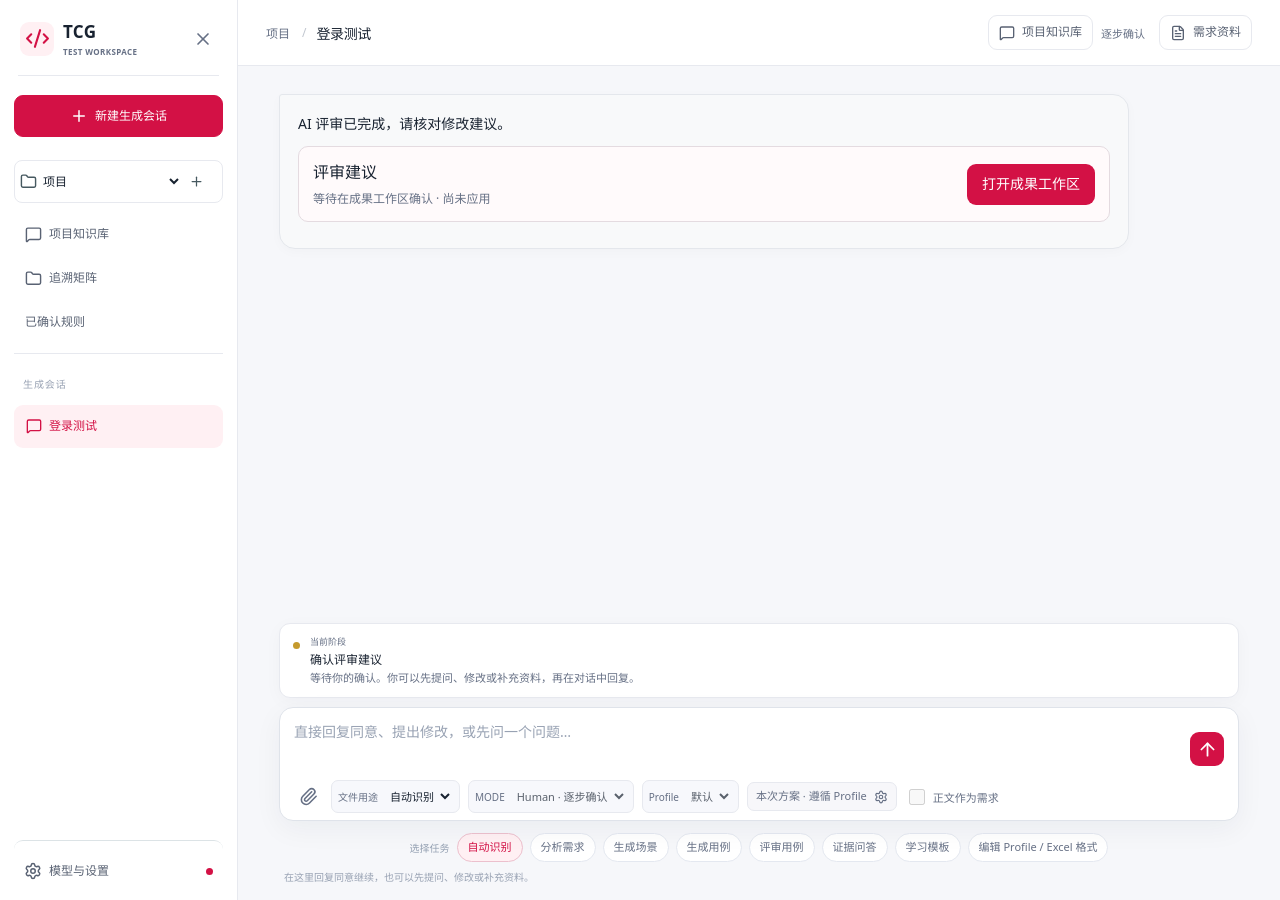
Scenario: side assistant uses the existing chat and selected cases without starting a workflow or consuming the main draft
Type "下一轮要补充的需求" into the text box named "聊天输入".
click(737, 744); type("下一轮要补充的需求")  # box x1=294 y1=720 x2=1180 y2=768
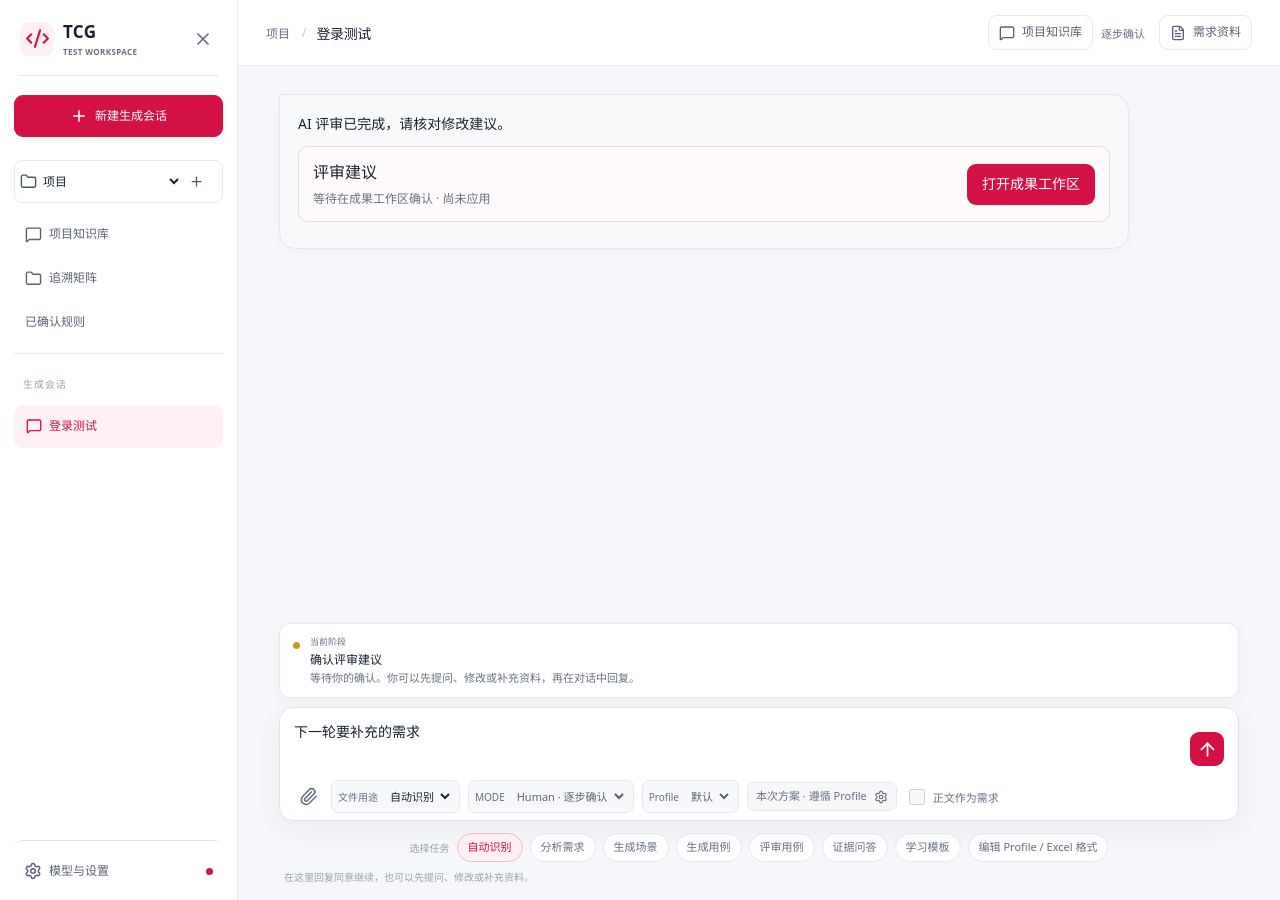
Click the button "打开成果工作区".
click(1031, 184)  # box x1=967 y1=164 x2=1095 y2=205
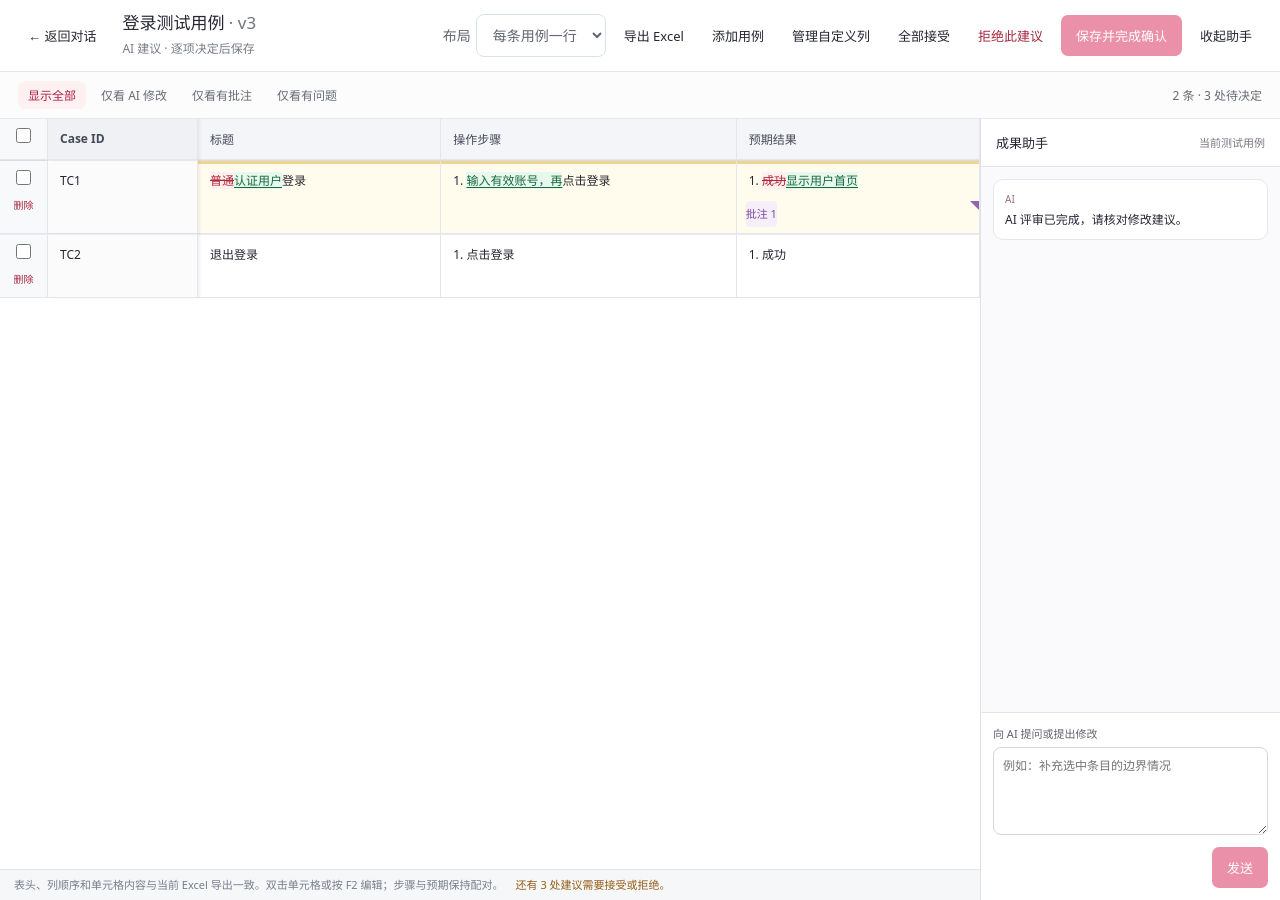
Result: the table is shown at x1=0 y1=119 x2=980 y2=298
Click the checkbox named "选择 TC1".
click(24, 177)  # box x1=16 y1=170 x2=31 y2=185
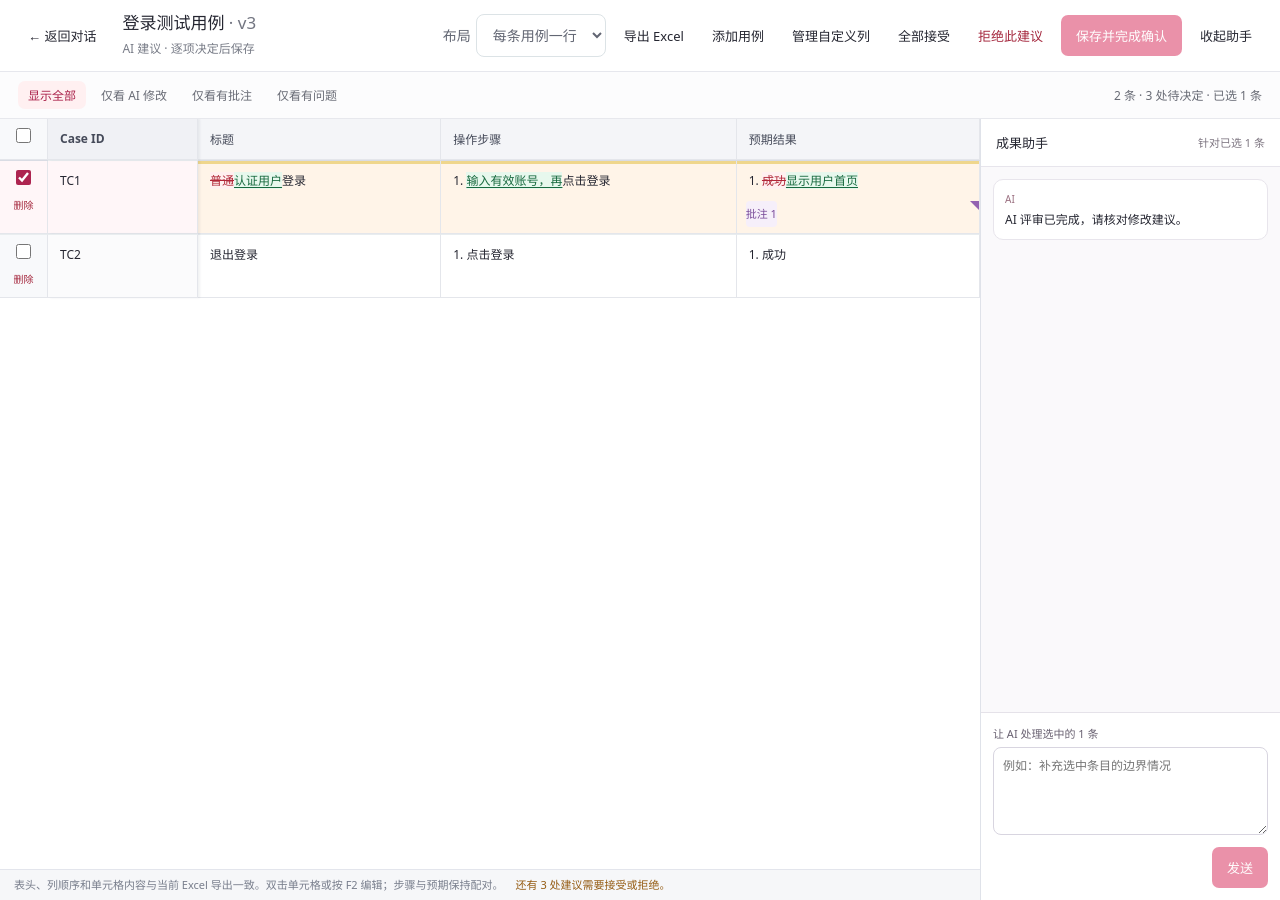
Type "解释所选用例，不要应用评审建议" into the text box.
click(1130, 791); type("解释所选用例，不要应用评审建议")  # box x1=993 y1=747 x2=1268 y2=835
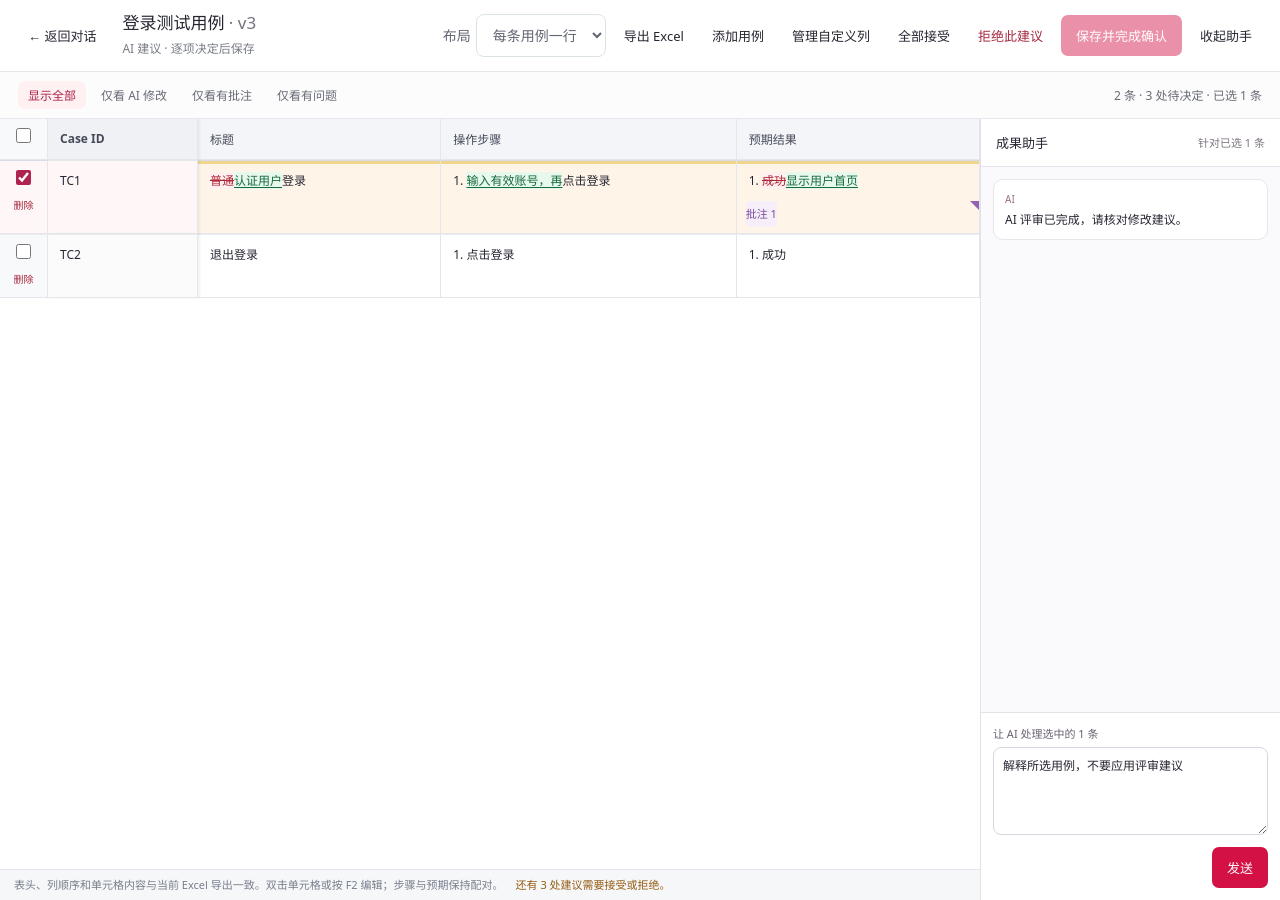
Click the button with aria-label "发送成果消息".
click(1240, 868)  # box x1=1212 y1=847 x2=1268 y2=888
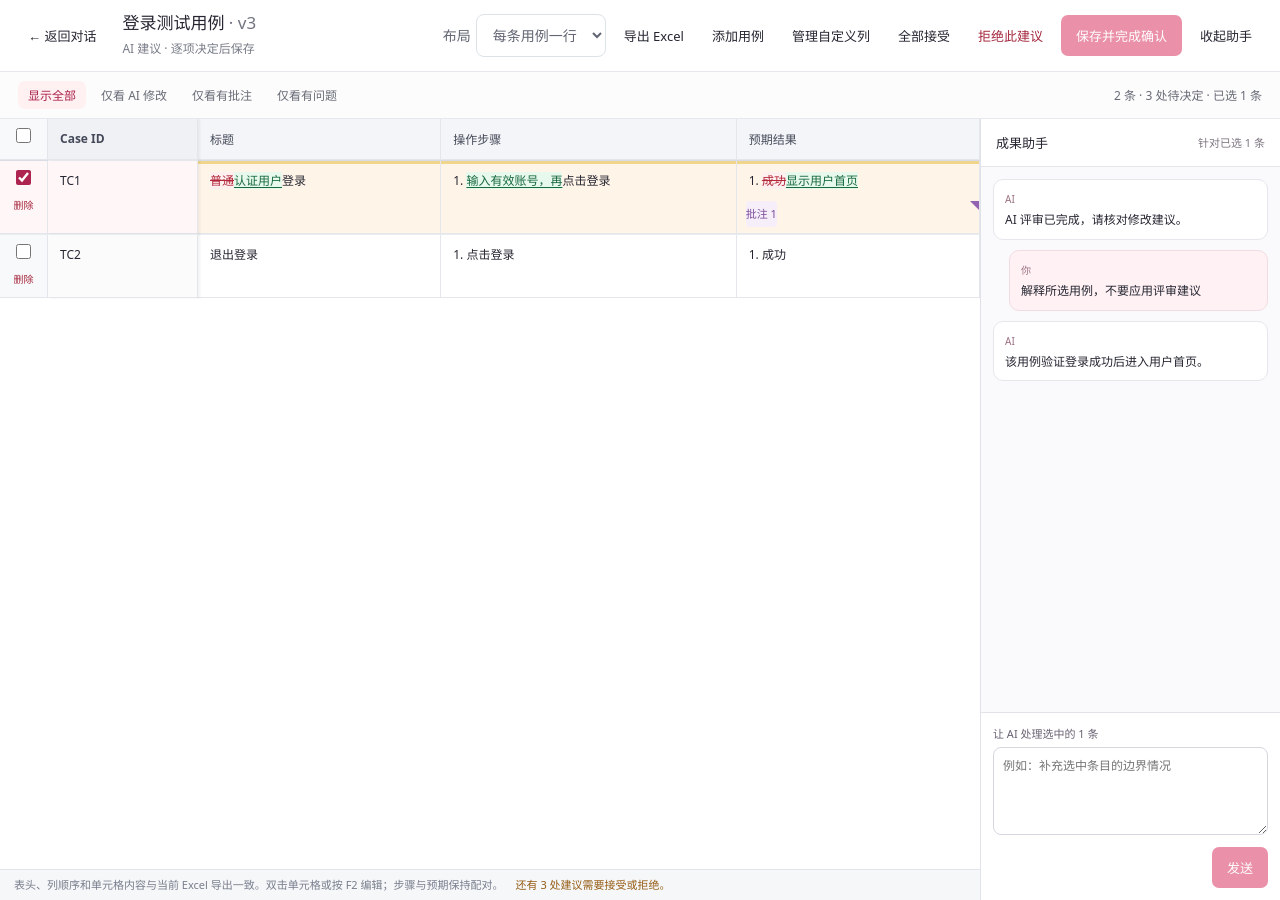
Result: the 1st text "解释所选用例，不要应用评审建议" is shown at x1=998 y1=283 x2=1208 y2=308
Click the button "← 返回对话".
click(62, 36)  # box x1=18 y1=18 x2=106 y2=53
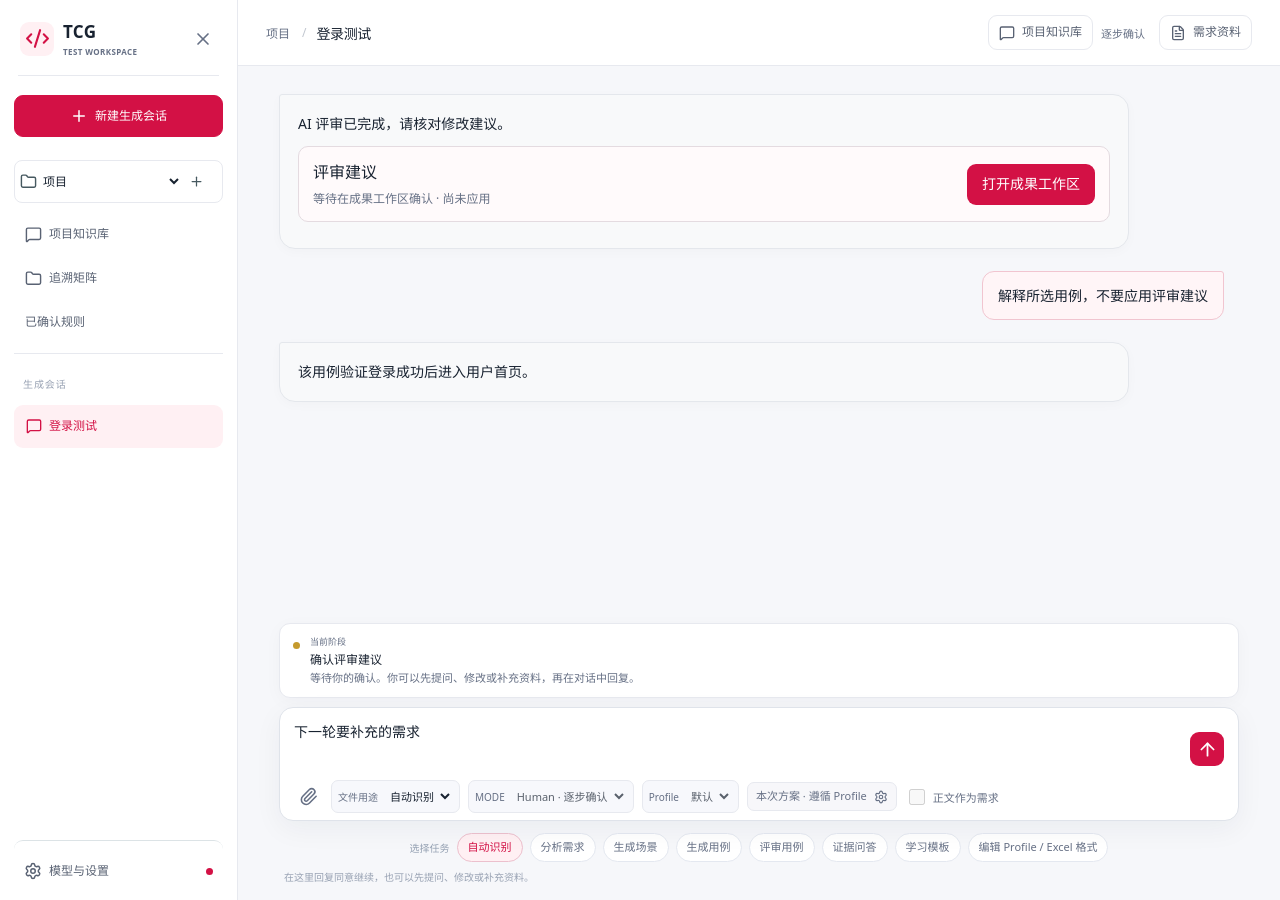
Result: the dialog is gone
